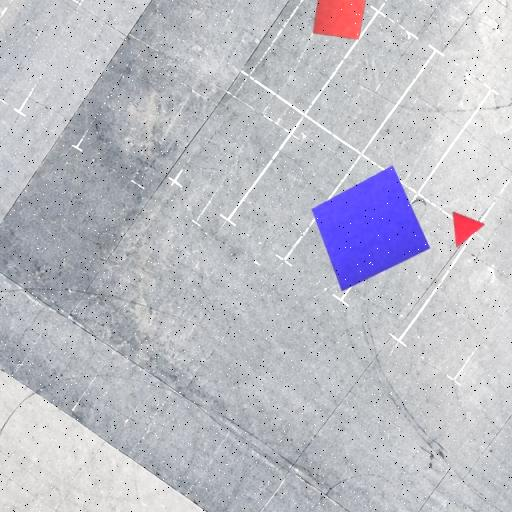BLUE_SQUARE: (311, 165, 431, 292)
RED_SQUARE: (313, 0, 368, 40)
